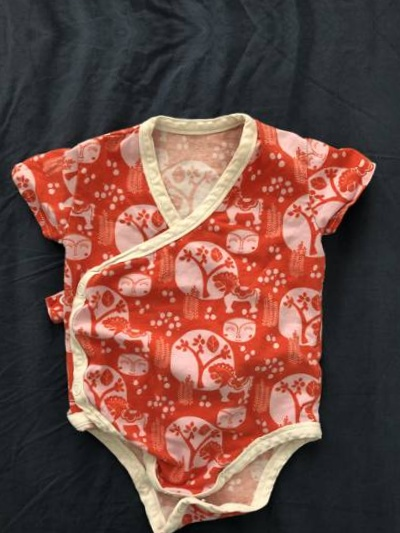Body: (15, 108, 376, 533)
